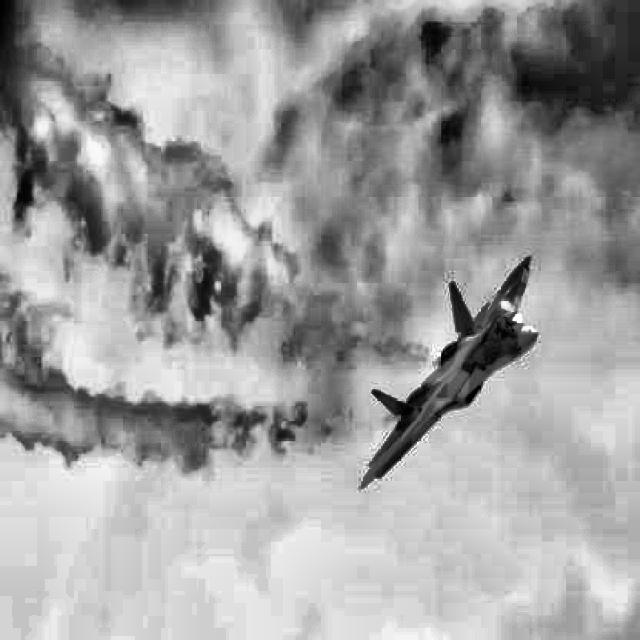Su57: (358, 256, 539, 489)
